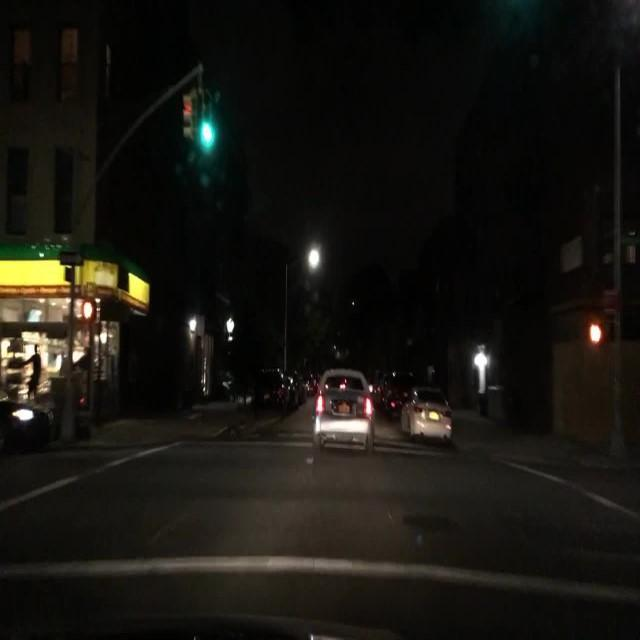normal: (313, 367, 376, 451), (398, 388, 453, 447)
